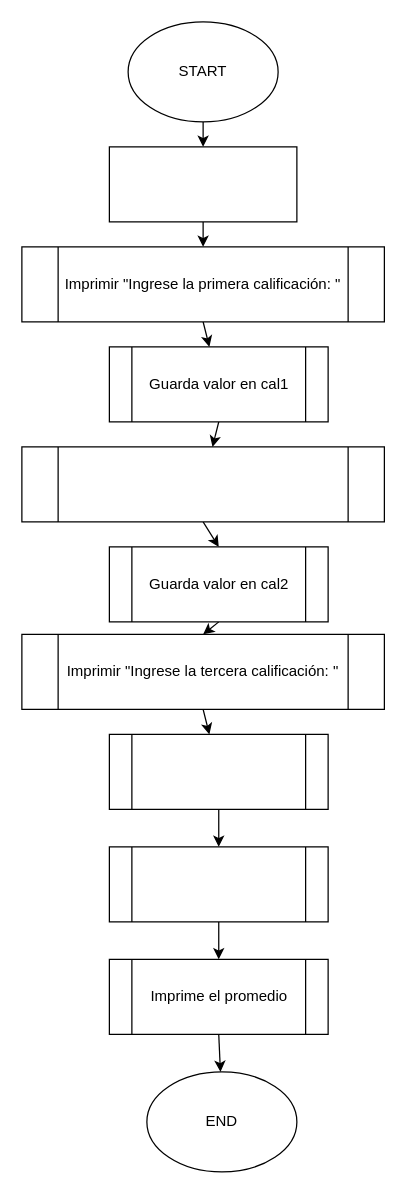
Some shapes in this 406 by 1194 pixel diagram are drawn without their labels. Each missing label, with the box of its shape:
Calcula el promedio: (108, 846, 328, 922)
Guarda valor en cal3: (108, 733, 328, 809)
Imprimir "Ingrese la segunda calificación: ": (21, 446, 384, 522)
int prom, cal1, cal2, cal3: (108, 146, 297, 222)
